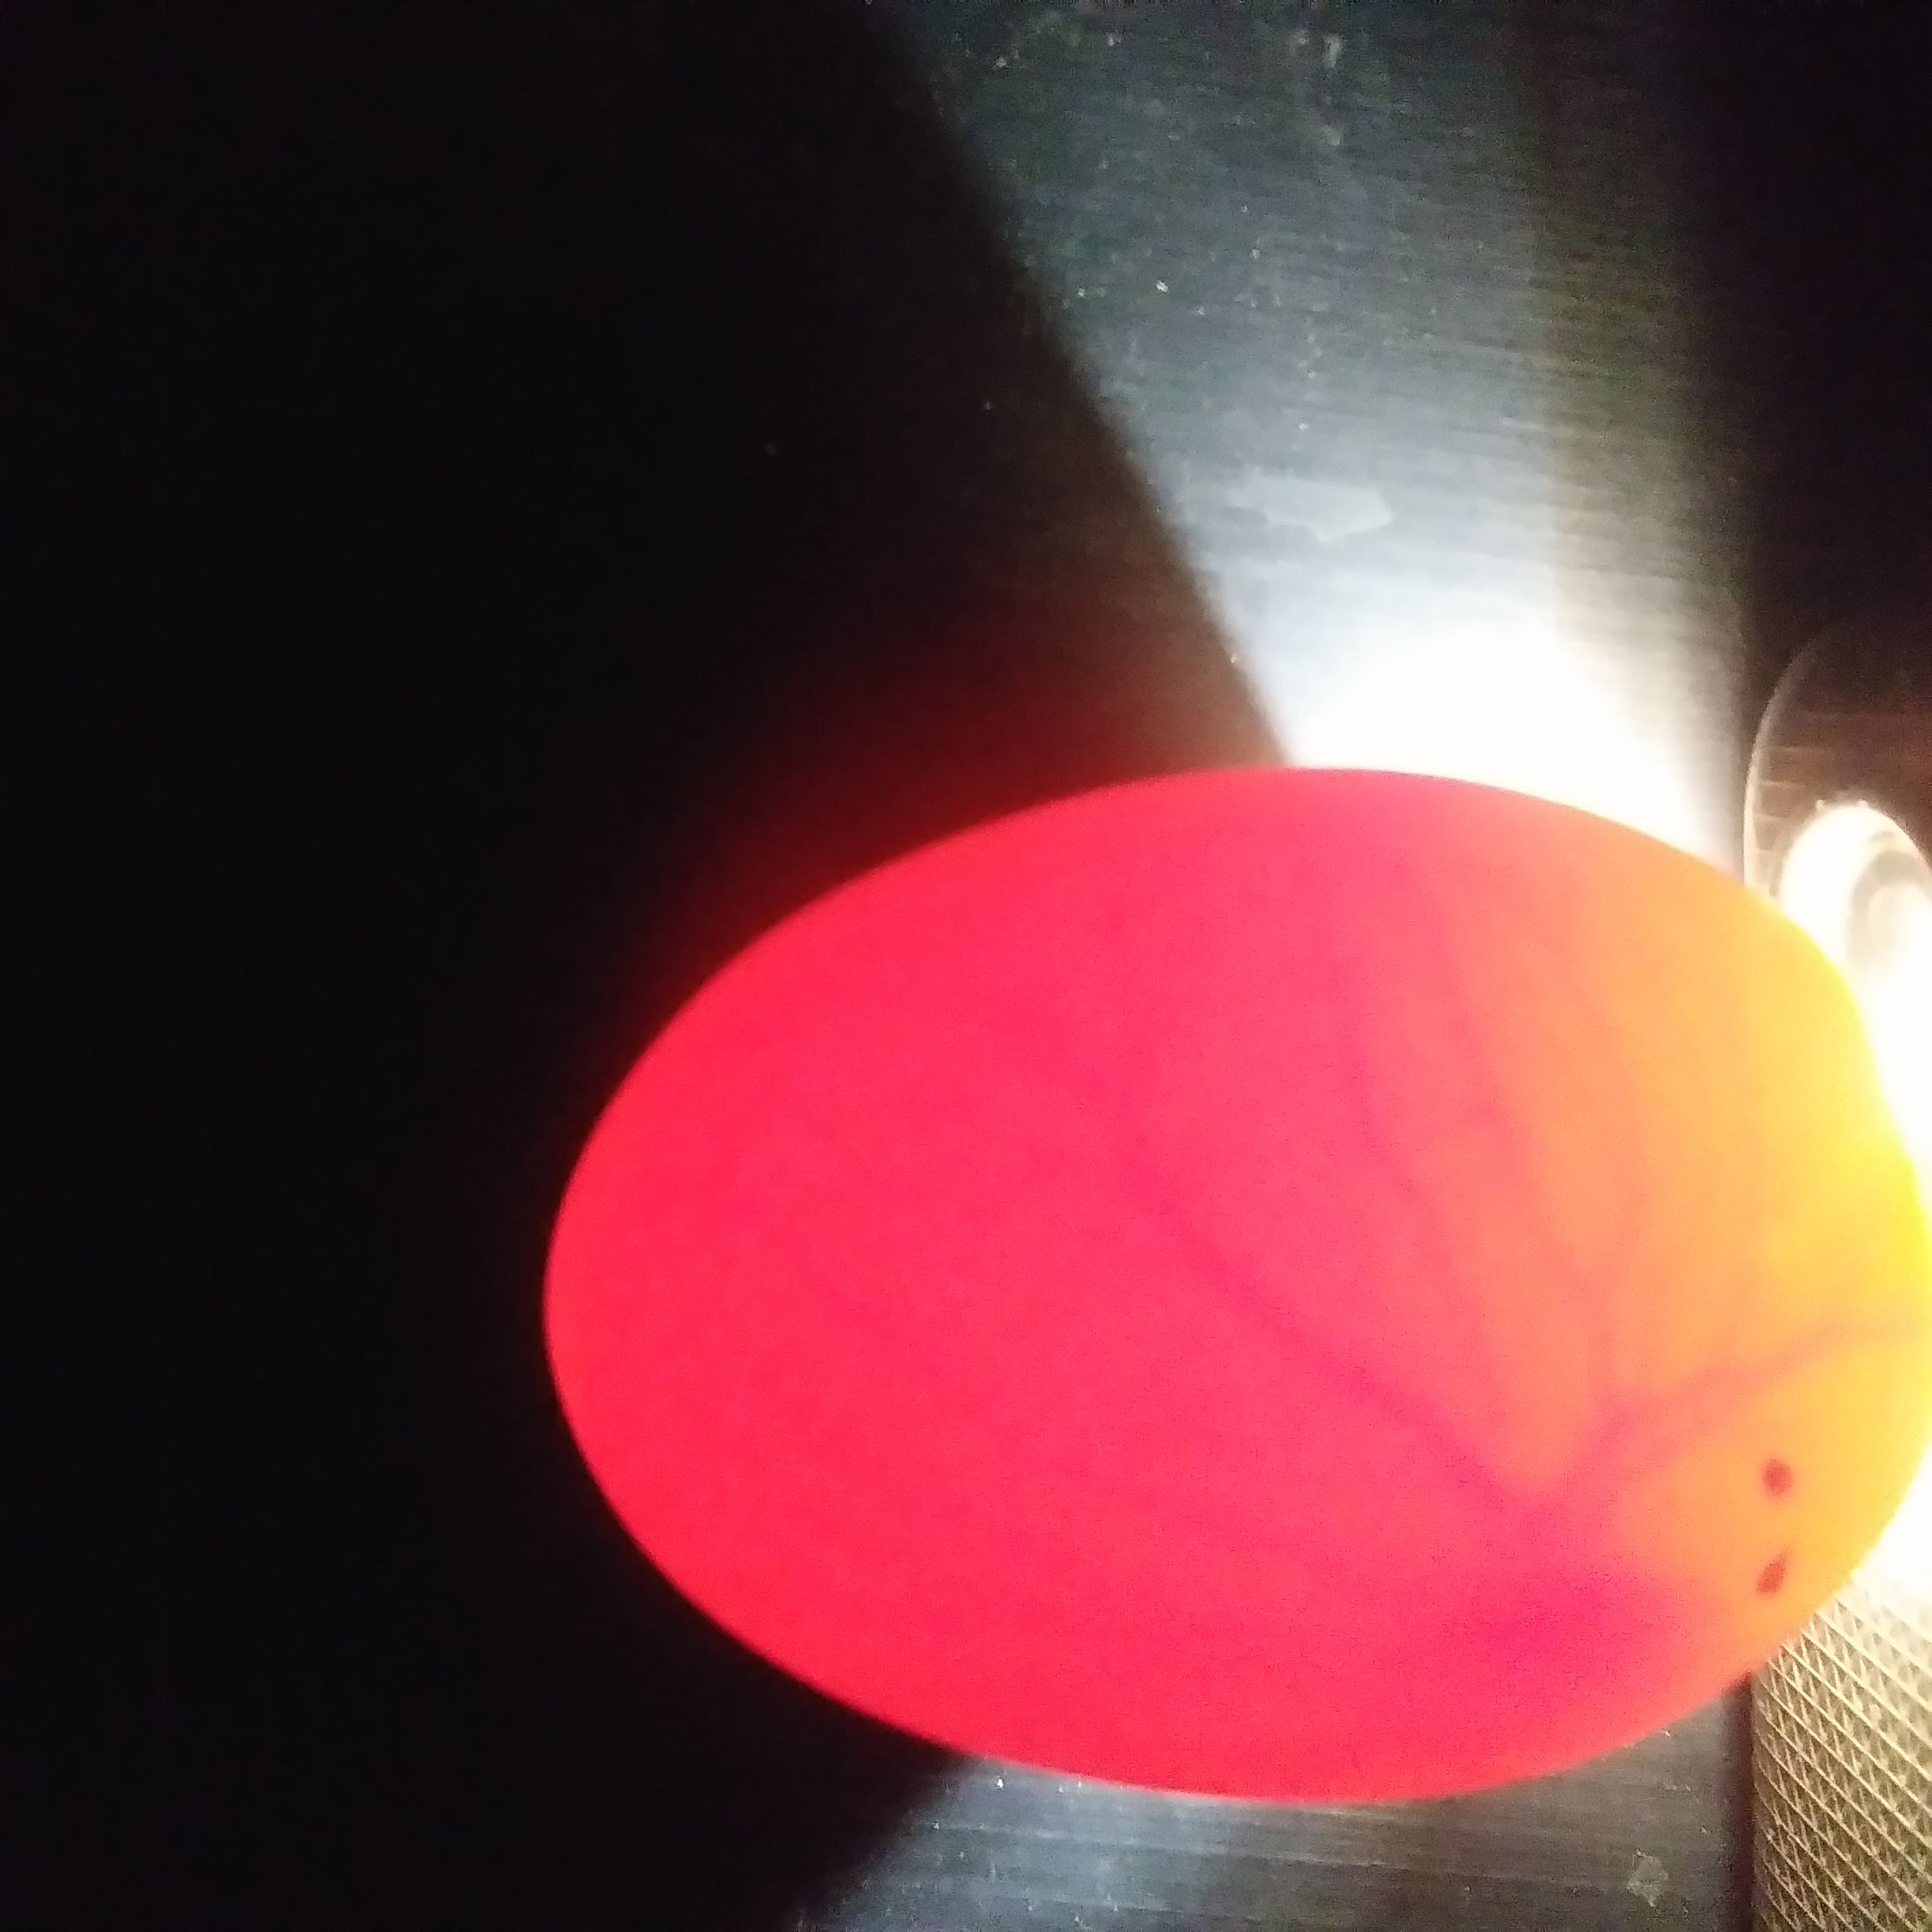bloodcell: (1292, 819, 1773, 1522)
embryo: (1384, 1560, 1686, 1743)
